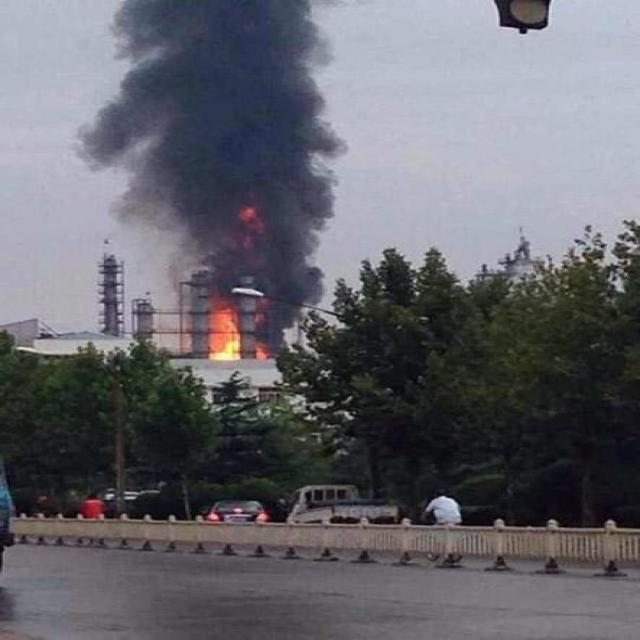Fire: (206, 306, 268, 362)
Smoke: (70, 1, 350, 283), (270, 286, 317, 356)
